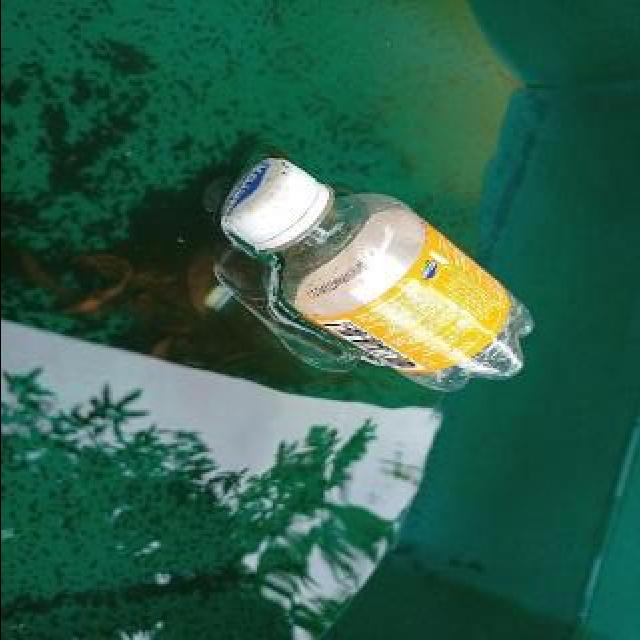Bottle: (213, 156, 537, 396)
